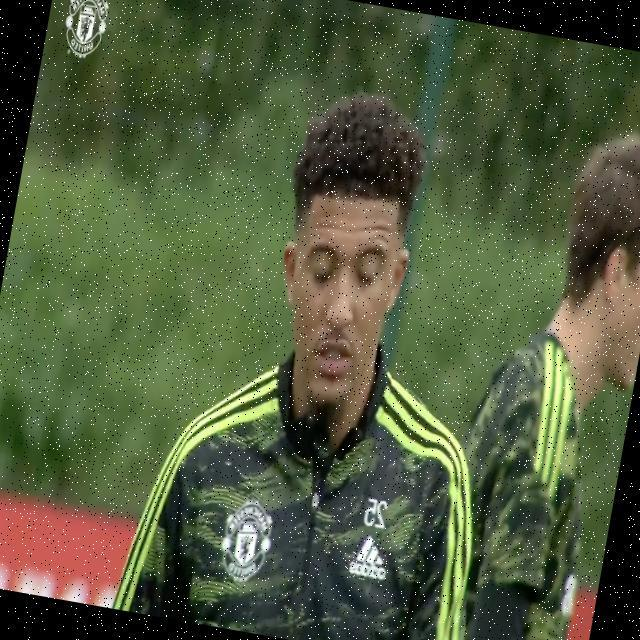Adidas: (347, 532, 391, 583)
